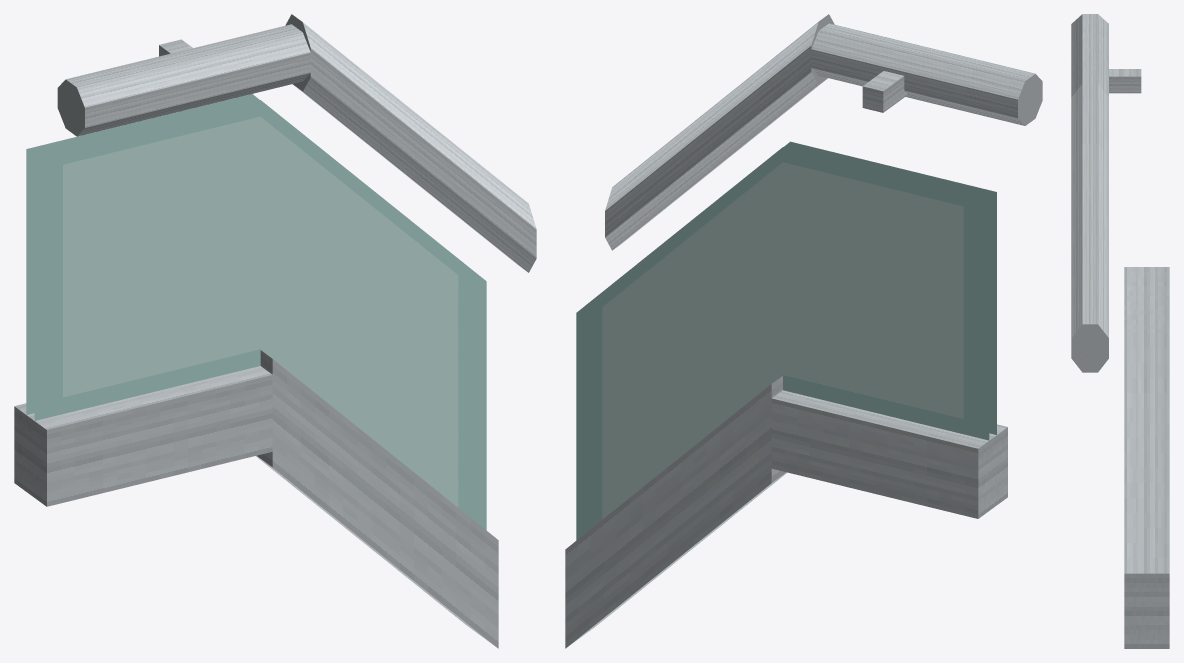
File: top_neg.obj
3 views of the same model, side by side, from view 1: azimuth 30°, elevation 25°; view 2: azimuth 150°, elevation 25°; view 3: azimuth 270°, elevation 25° (orthographic). The views are drawn at different scales.
Parts seen in each view (by area): view 1: railing_glass_stainless_top_neg; view 2: railing_glass_stainless_top_neg; view 3: railing_glass_stainless_top_neg.
Boxes of the visible parts, bbox=[...] form: railing_glass_stainless_top_neg: bbox=[14, 14, 536, 648]; railing_glass_stainless_top_neg: bbox=[565, 14, 1042, 648]; railing_glass_stainless_top_neg: bbox=[1071, 14, 1169, 648].
Bounding box in the file's own units: 1 × 1.49 × 0.2707.
